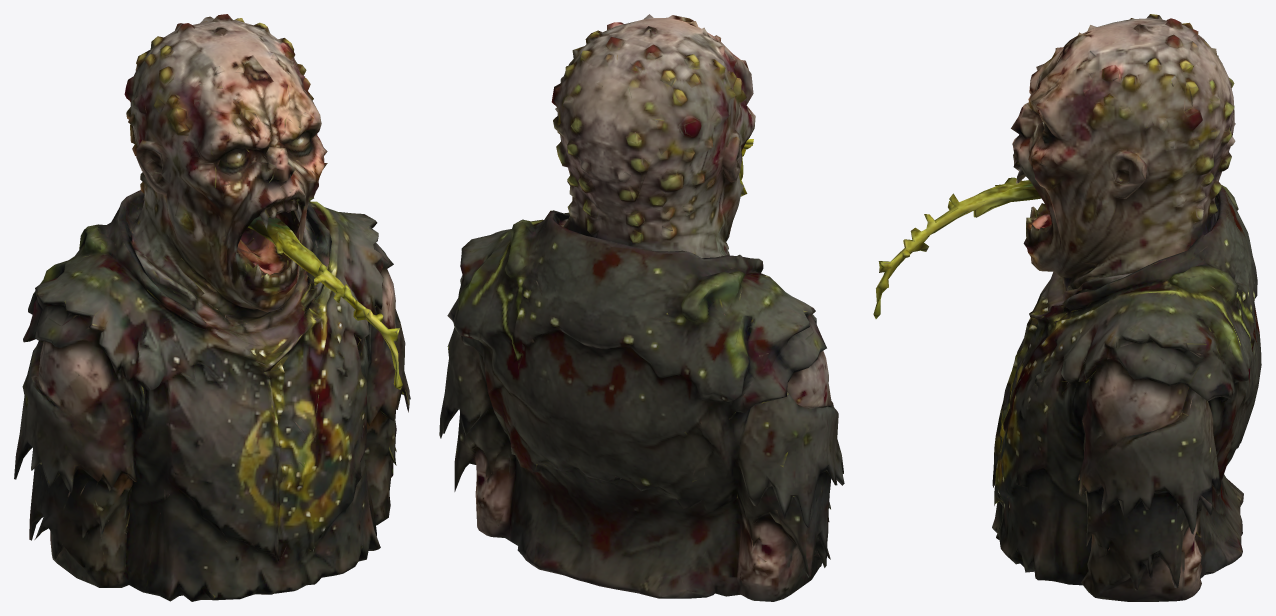
The model's file is spitter.glb.
The picture shows the model from 3 angles, left to right: view 1: azimuth 30°, elevation 25°; view 2: azimuth 150°, elevation 25°; view 3: azimuth 270°, elevation 25°; orthographic projection. The views are drawn at different scales.
Parts seen in each view (by area): view 1: Mesh_0; view 2: Mesh_0; view 3: Mesh_0.
Part boxes in pixels (x1=…): Mesh_0: x1=14, y1=14, x2=410, y2=601; Mesh_0: x1=439, y1=14, x2=844, y2=601; Mesh_0: x1=873, y1=14, x2=1261, y2=601.
Bounding box in the file's own units: 1.46 × 1.91 × 1.33.
Materials: 1 (1 with a texture image).
